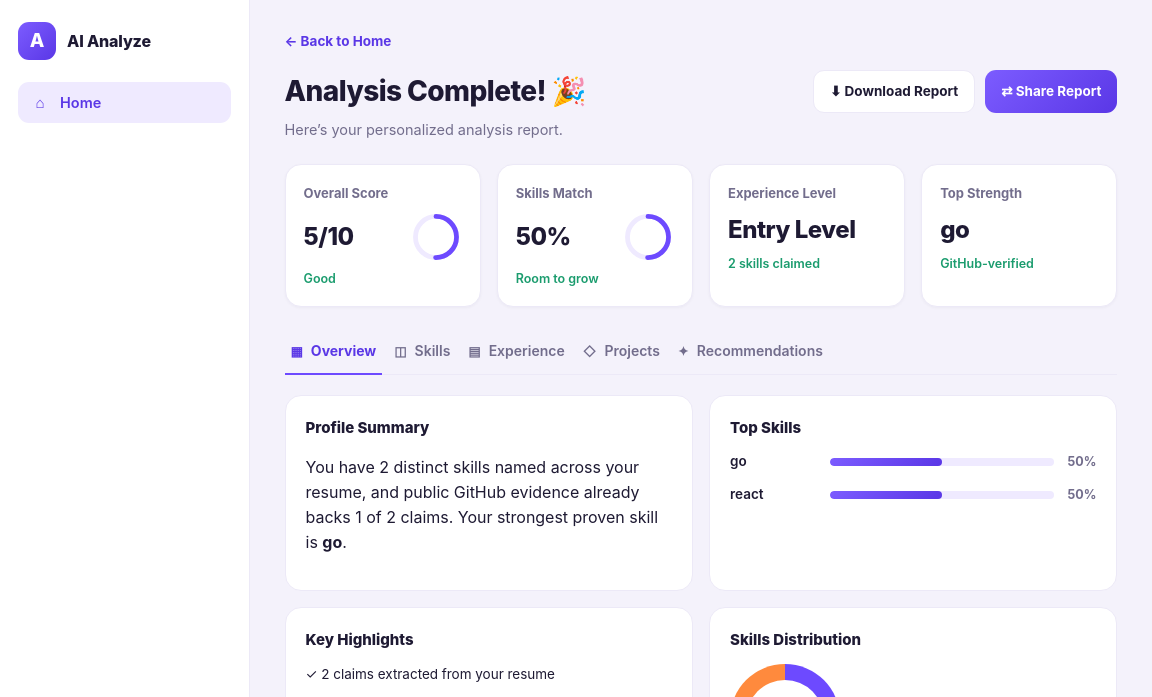
AnalysisDashboard › with plan still generating (report arrived first) › fills in the suggestions once the plan arrives (rerender with a populated plan)
Expected: the button "⬇ Download Report" is enabled, [813,70,975,113]
Click the tab "◇ Projects" at (621, 352), box [577,329,666,375]
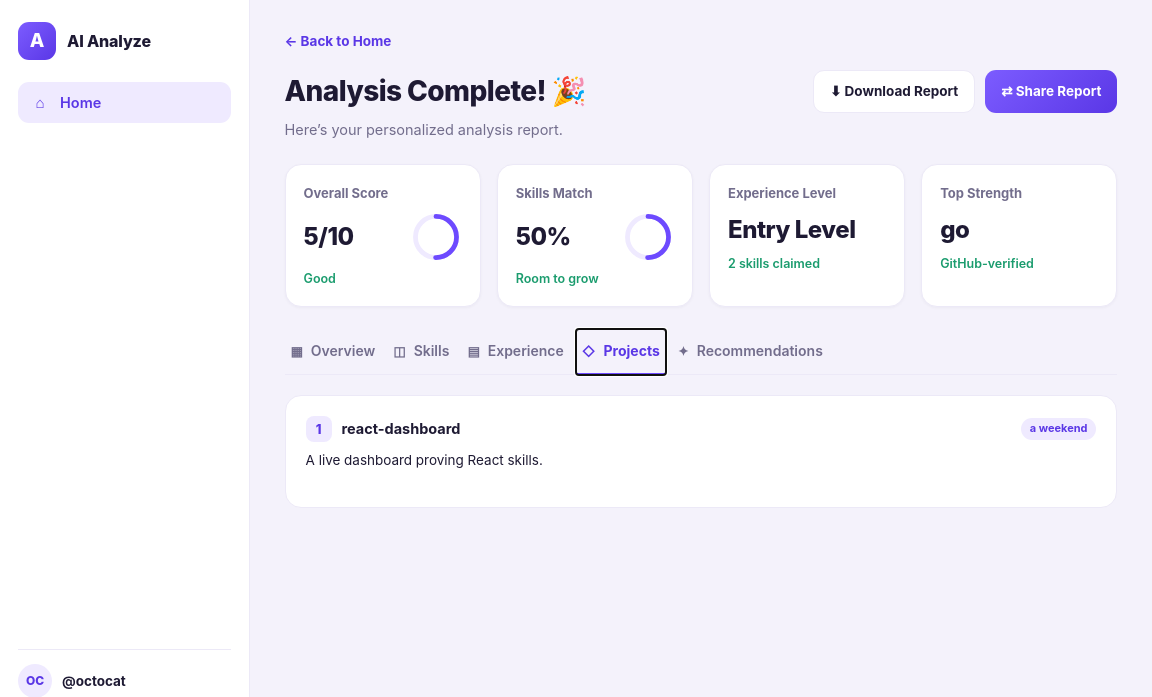
Expected: the text "react-dashboard" is shown, [342,418,460,440]
